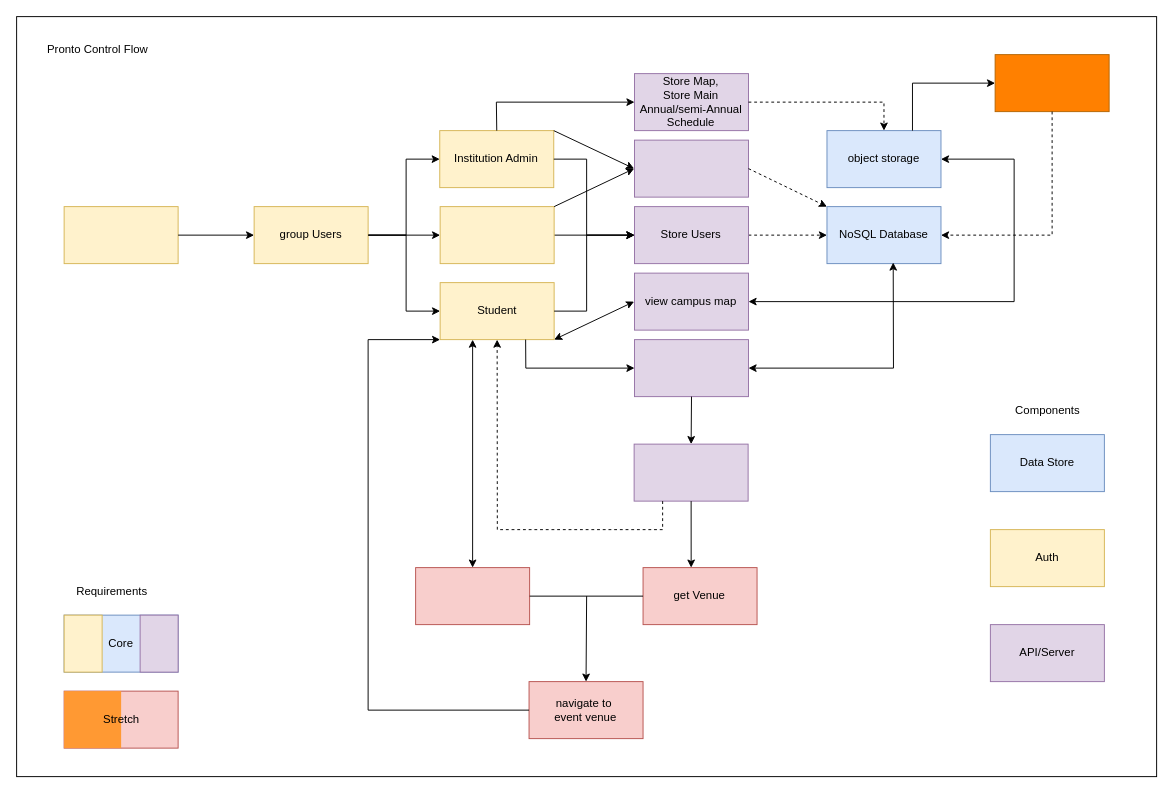
The diagram is 1173 pixels wide and 793 high, and some of its shapes have lost their labels. The shapes that lost their labels are listed below. From the top down, each one's centre as x and y in pixels, then its label:
At (1051,83): "Extract, Transform and load main schedule".
At (691,168): "update/add Schedule".
At (120,235): "Login/Register".
At (496,235): "Lectures".
At (691,368): "Query Schedules".
At (690,472): "Build User specific schedule".
At (472,596): "get User Location".
